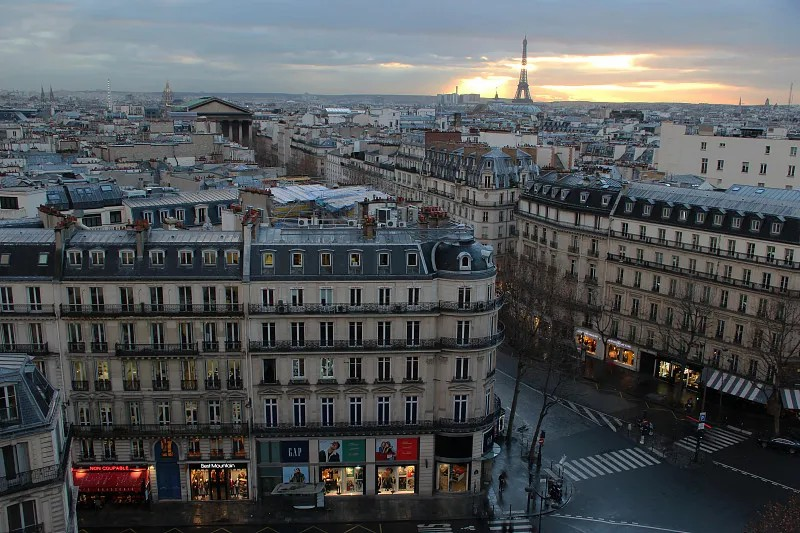Eiffel: (512, 33, 534, 104)
